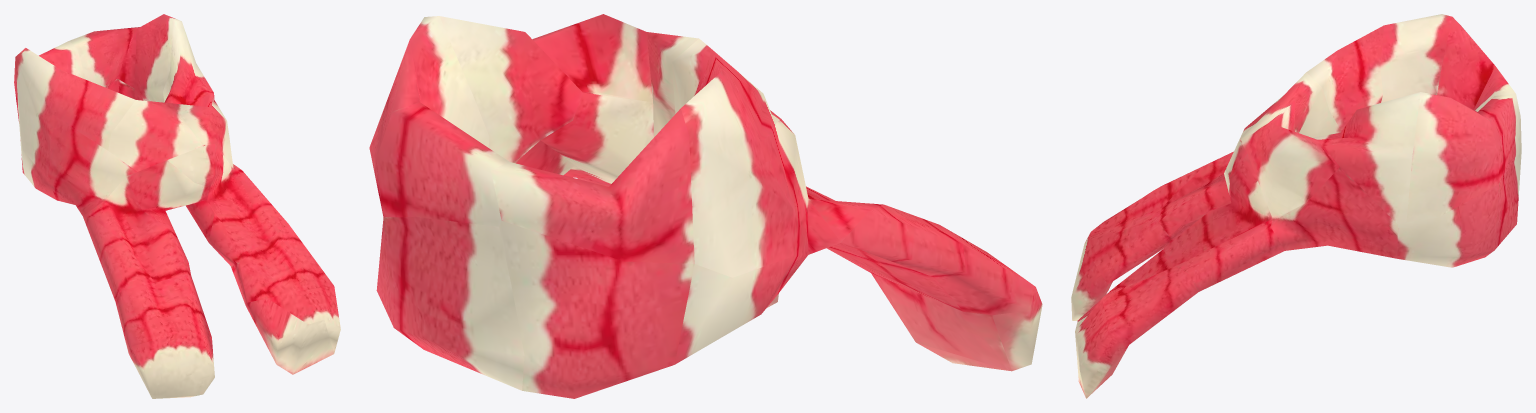
File: s1_gen_scarf.glb
3 views of the same model, side by side, from view 1: azimuth 30°, elevation 25°; view 2: azimuth 150°, elevation 25°; view 3: azimuth 270°, elevation 25° (orthographic). The views are drawn at different scales.
Size of the model in its own units: 1.21 by 1.39 by 1.88.
1 material, 1 textured.
